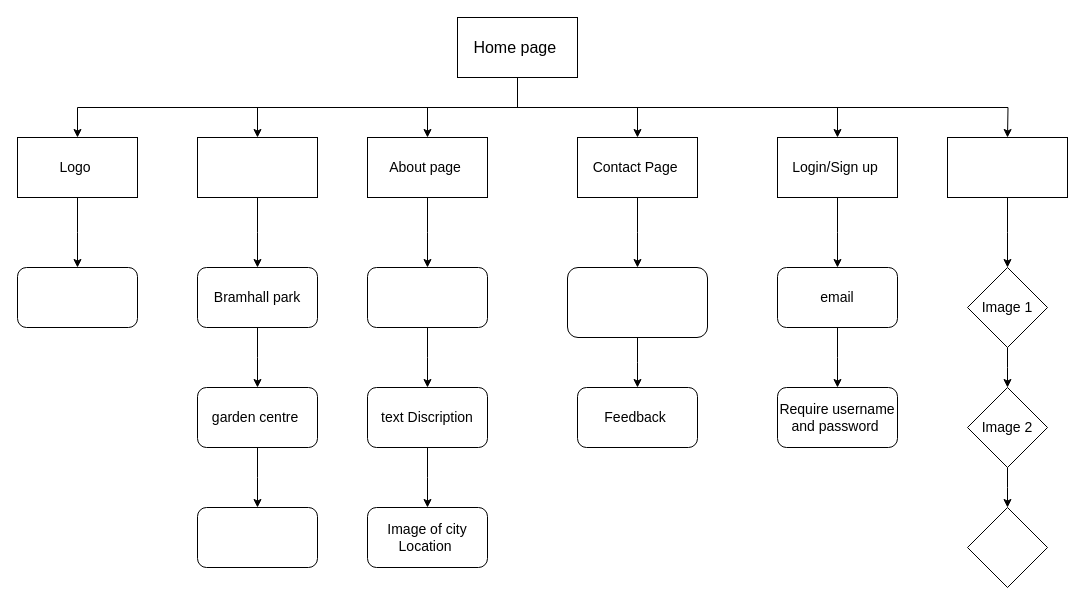
This 1085x605 diagram has some shape labels left out. The shapes that lost their labels are listed below. From the top down, each one's centre as x and y in pixels, then its label:
the point at 257,167: Green places in Bramhall
the point at 1007,167: gallery page
the point at 77,297: Brief 1 design by nature.
the point at 427,297: Title
the point at 637,302: name/address/email
the point at 257,537: Image of
the point at 1007,547: Image 3
